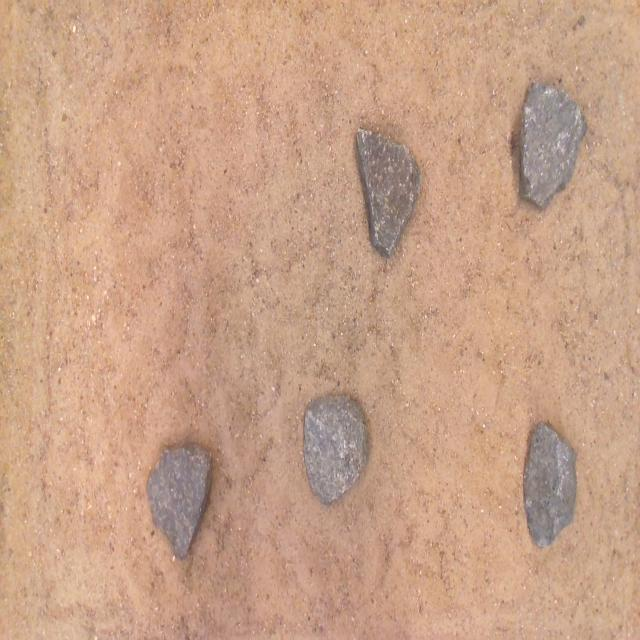rock: (520, 83, 587, 207), (357, 130, 421, 256), (147, 443, 212, 558), (304, 396, 368, 503), (524, 423, 576, 547)
